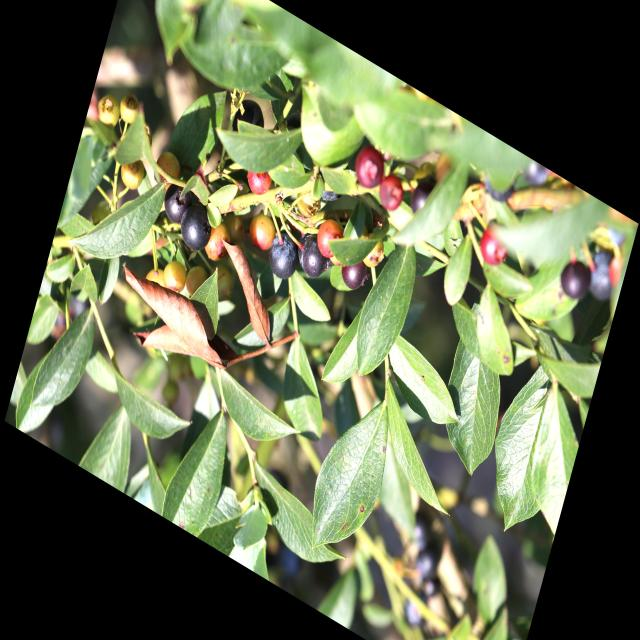blueberry: (293, 222, 338, 288), (176, 196, 218, 259), (265, 228, 304, 287), (554, 250, 594, 304), (338, 246, 374, 297), (157, 177, 191, 227), (409, 174, 438, 217), (317, 182, 341, 209)
blueberry-halfripe: (476, 220, 514, 274), (351, 140, 388, 192), (242, 204, 278, 257), (312, 214, 346, 267), (239, 155, 273, 201), (377, 170, 406, 216)
blueberry-unripe: (150, 144, 185, 195), (201, 217, 233, 268), (206, 260, 238, 305), (293, 177, 324, 222), (94, 88, 124, 133), (118, 152, 147, 195), (359, 228, 387, 272), (159, 255, 189, 296), (182, 262, 210, 302), (116, 90, 142, 129)
